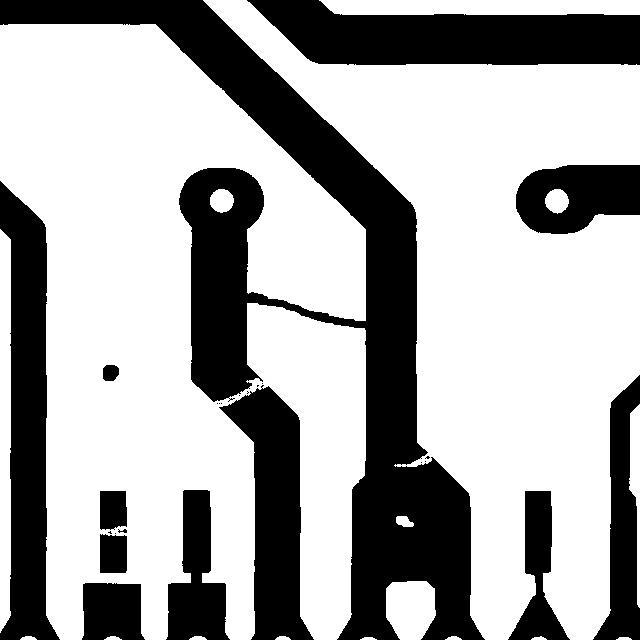copper: (93, 355, 128, 390)
mousebite: (384, 442, 443, 476)
open: (197, 368, 278, 417), (86, 516, 139, 545)
pin-hole: (386, 506, 423, 536)
short: (226, 282, 379, 337), (519, 558, 554, 607), (181, 558, 211, 595)
